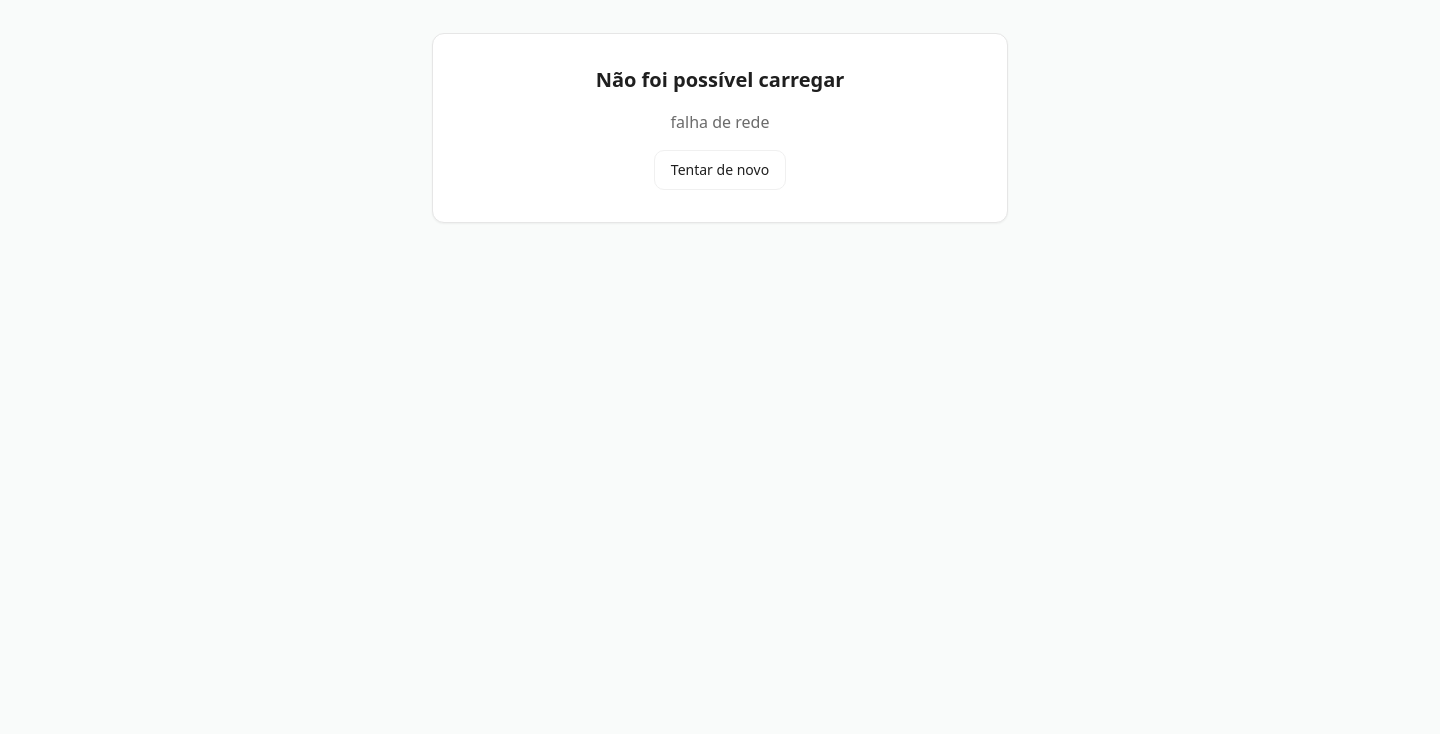
Scenario: Agency admin area › shows other failures with a retry instead of an empty list
Expected: the text "falha de rede" is shown, [671,111,769,133]
Click the button "Tentar de novo" at [720, 170], box [654,150,786,190]
(page scrolled)
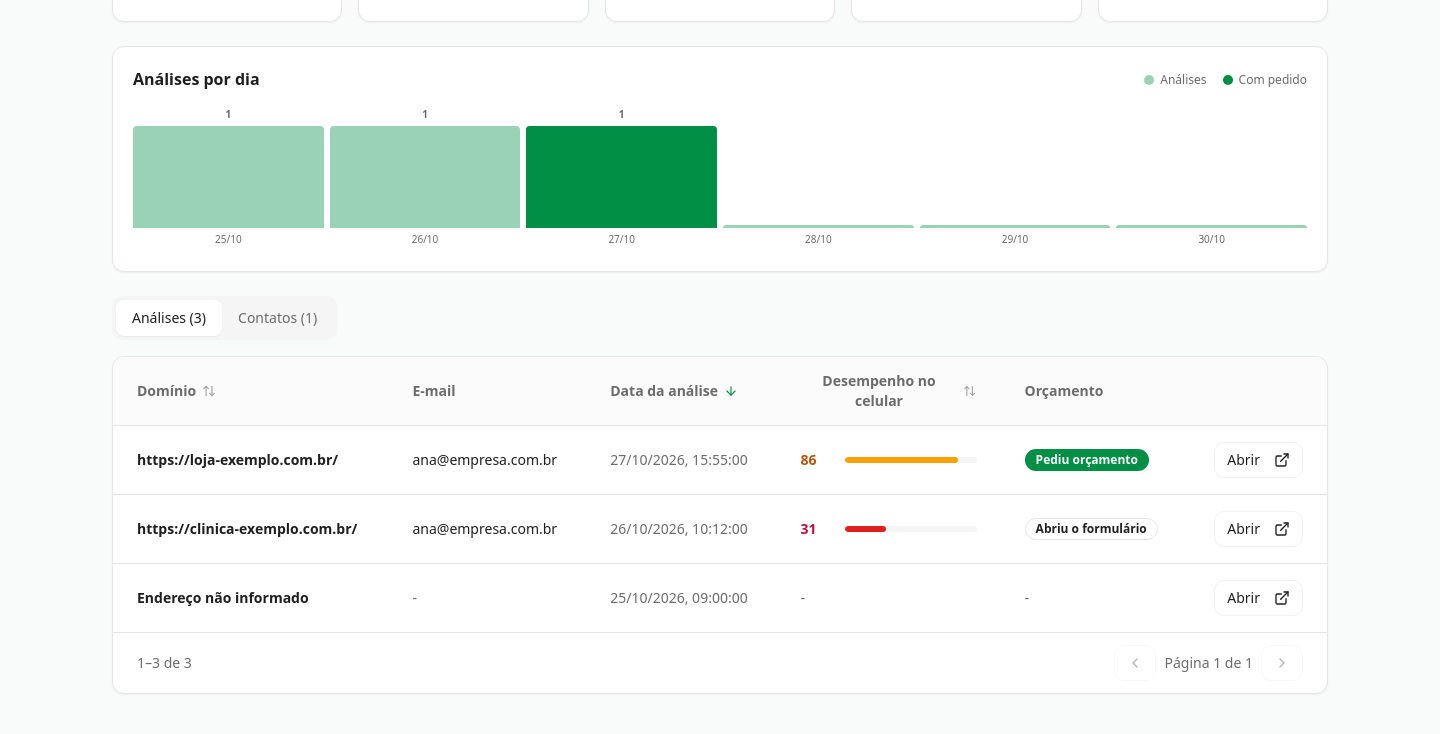
Now the text "https://loja-exemplo.com.br/" is shown, box [113,426,388,494]
